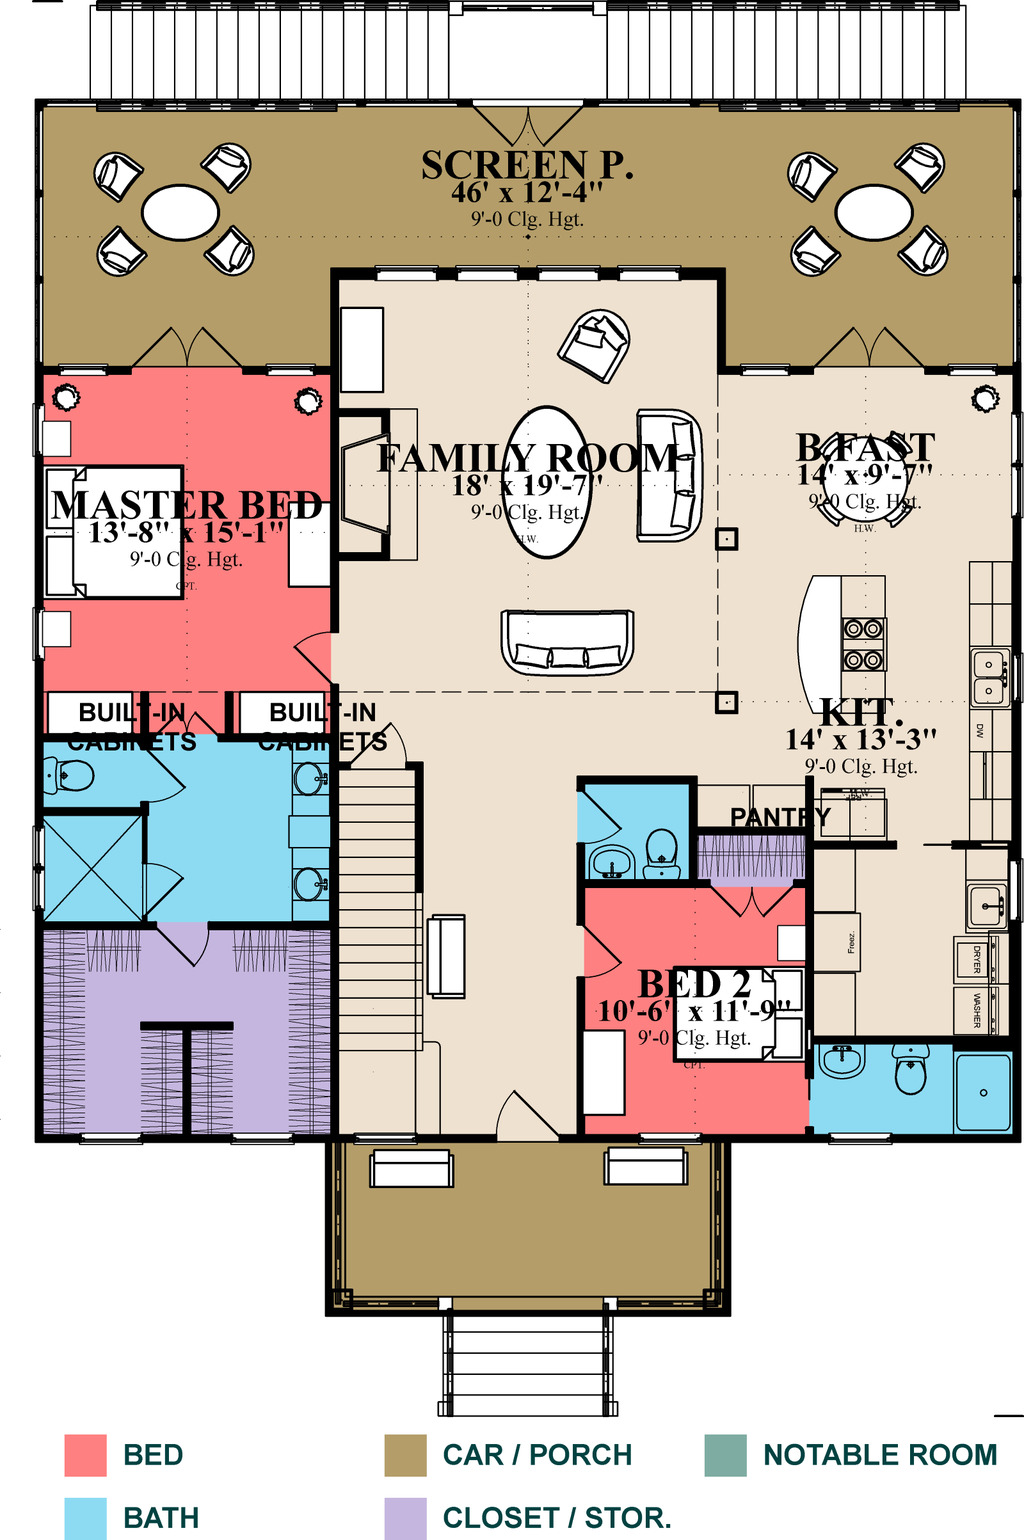door: (813, 320, 939, 380), (139, 324, 240, 385)
large_sink: (34, 756, 98, 808), (637, 820, 688, 882), (881, 1041, 939, 1094)
large_sofa: (632, 407, 706, 550), (496, 607, 635, 682)
small_sink: (286, 741, 327, 826), (286, 849, 327, 919), (809, 1043, 870, 1084)
stairs: (81, 5, 977, 115), (339, 757, 427, 1136), (439, 1307, 616, 1425)
